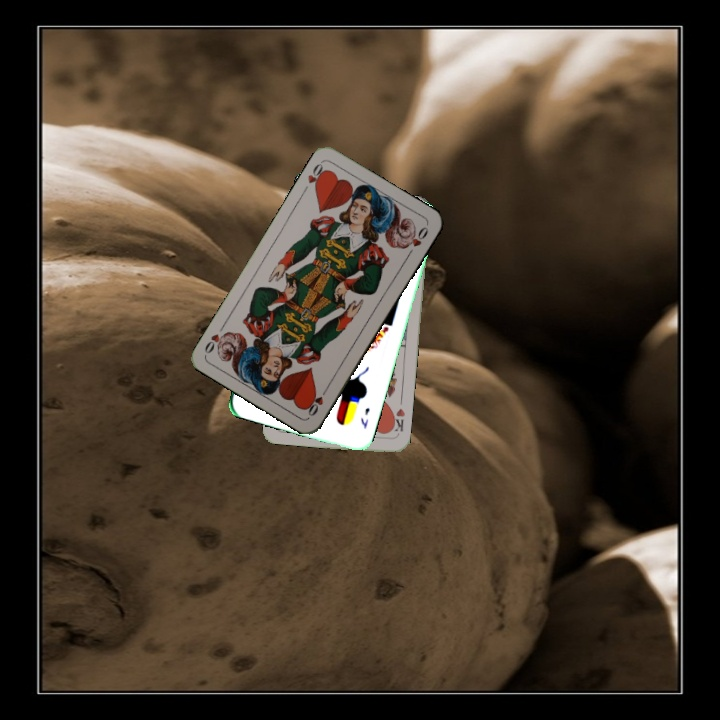EK: (356, 404, 372, 432)
HK: (387, 405, 407, 439)
HO: (303, 382, 331, 419), (304, 158, 330, 193)
